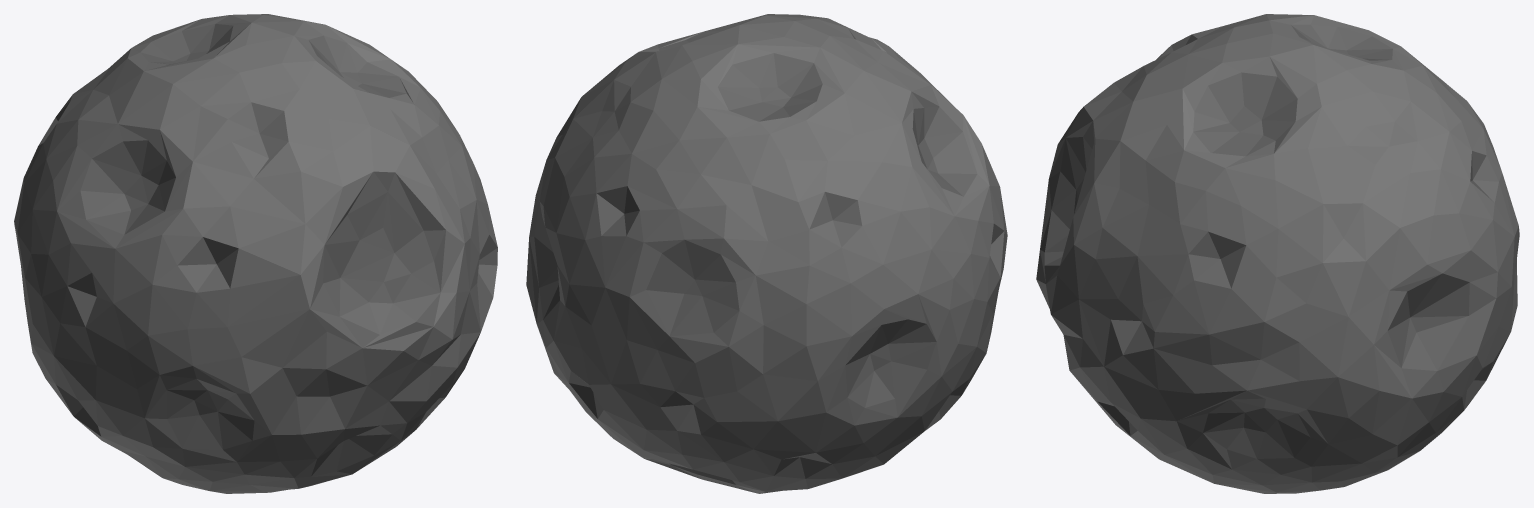
The model's file is Moon.fbx.
The picture shows the model from 3 angles, left to right: view 1: azimuth 30°, elevation 25°; view 2: azimuth 150°, elevation 25°; view 3: azimuth 270°, elevation 25°; orthographic projection.
Visible parts, largest first — view 1: Moon; view 2: Moon; view 3: Moon.
Boxes of the visible parts, <box> form: Moon: <box>14,14,497,493</box>; Moon: <box>526,14,1007,493</box>; Moon: <box>1036,14,1519,493</box>.
Size of the model in its own units: 33.32 by 33.16 by 33.47.
1 material, 1 textured.
